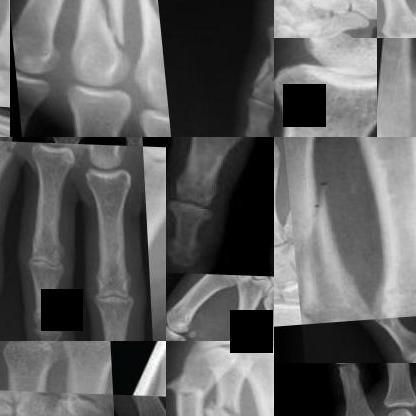fracture: (286, 179, 349, 317), (58, 0, 134, 50), (123, 0, 163, 63), (166, 373, 209, 410), (242, 51, 273, 101), (203, 391, 245, 415), (0, 140, 20, 168)
